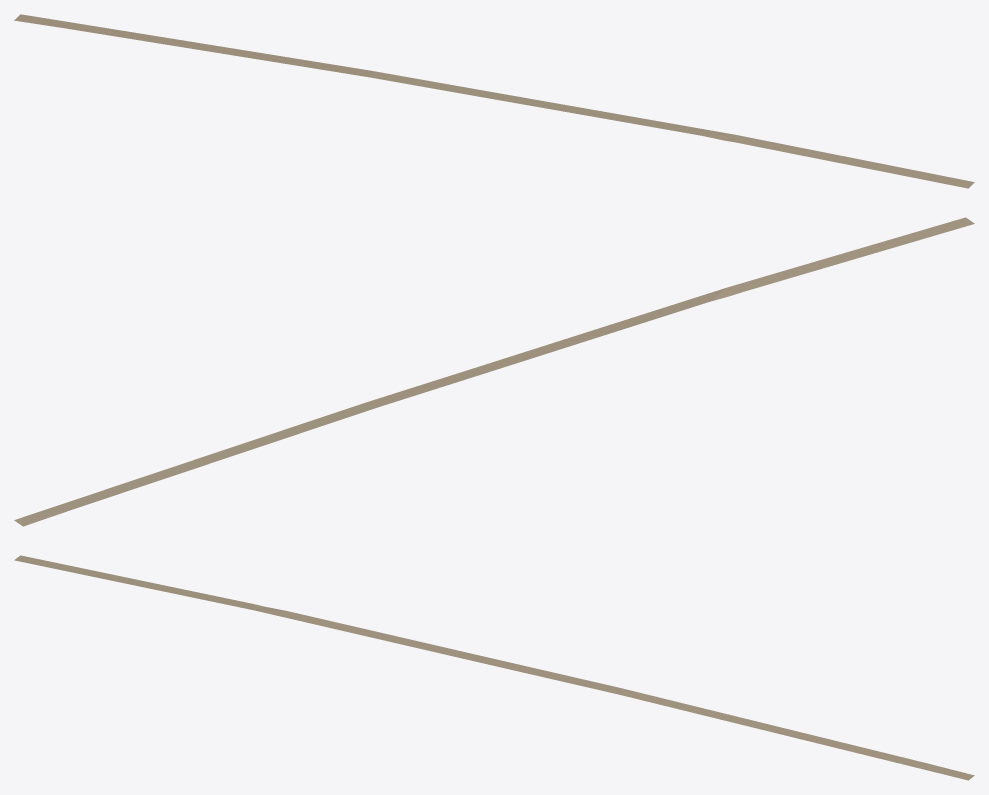
Rendered from farm_10_12_track.glb.
The picture shows the model from 3 angles, top to bottom: view 1: azimuth 90°, elevation 25°; view 2: azimuth 150°, elevation 25°; view 3: azimuth 270°, elevation 25°; orthographic projection. The views are drawn at different scales.
Visible parts, largest first — view 1: geometry_0; view 2: geometry_0; view 3: geometry_0.
Boxes of the visible parts, x1,y1,x2,y2 form: geometry_0: (14,14,974,188); geometry_0: (14,217,974,526); geometry_0: (14,555,974,780).
Bounding box in the file's own units: 103 × 6.47 × 210.
